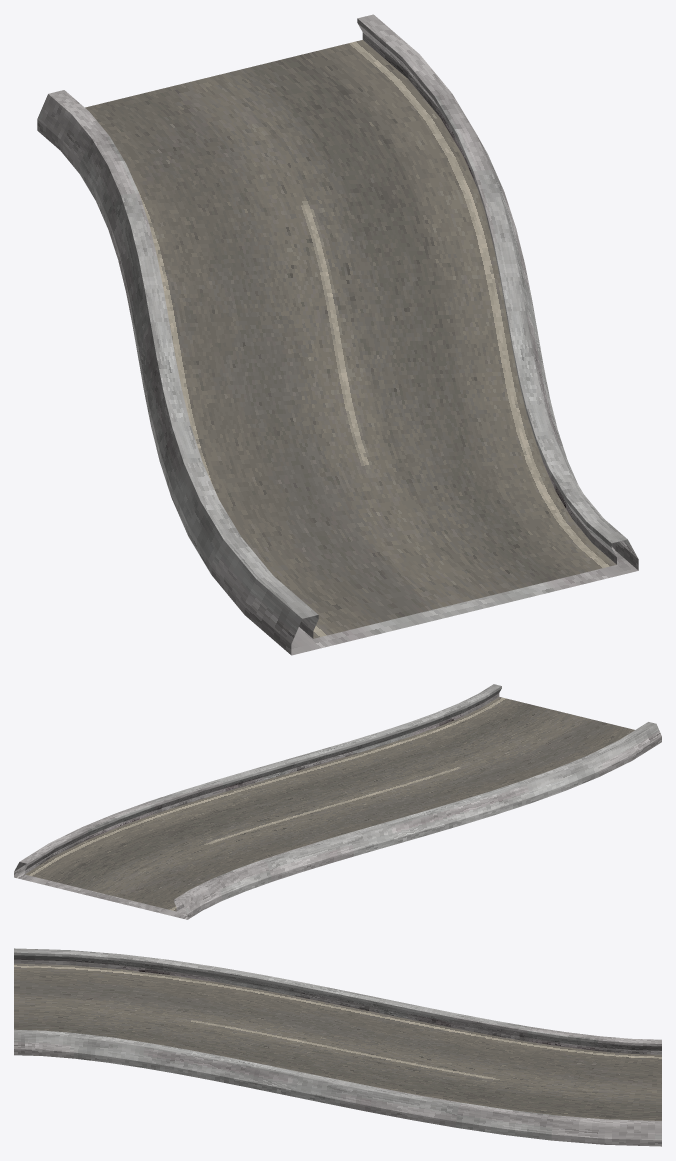
The model's file is road-Chicane-Flat-Flat-Even-Right1-Size3.glb.
The picture shows the model from 3 angles, top to bottom: view 1: azimuth 30°, elevation 25°; view 2: azimuth 150°, elevation 25°; view 3: azimuth 270°, elevation 25°; orthographic projection. The views are drawn at different scales.
Parts seen in each view (by area): view 1: road-Chicane-Flat-Flat-Even-Right1-Size3; view 2: road-Chicane-Flat-Flat-Even-Right1-Size3; view 3: road-Chicane-Flat-Flat-Even-Right1-Size3.
Part boxes in pixels (bbox=[...]): road-Chicane-Flat-Flat-Even-Right1-Size3: bbox=[37, 14, 638, 655]; road-Chicane-Flat-Flat-Even-Right1-Size3: bbox=[14, 684, 661, 919]; road-Chicane-Flat-Flat-Even-Right1-Size3: bbox=[14, 948, 661, 1146].
Size of the model in its own units: 2 by 0.0938 by 3.
2 materials, 2 textured.
